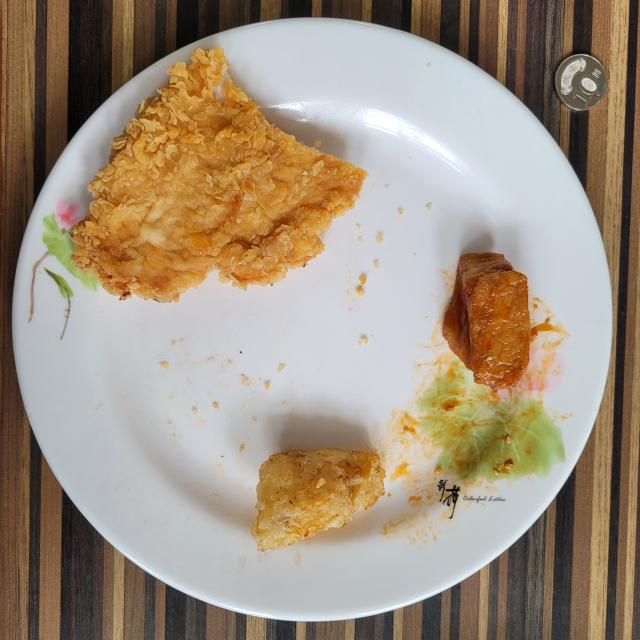coin: (555, 54, 608, 110)
creamy tofu: (442, 252, 530, 391)
fried chicken cutlet: (70, 48, 366, 302)
fried potato: (251, 449, 385, 551)
